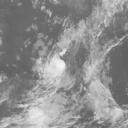cyclone: (37, 48, 104, 103)
